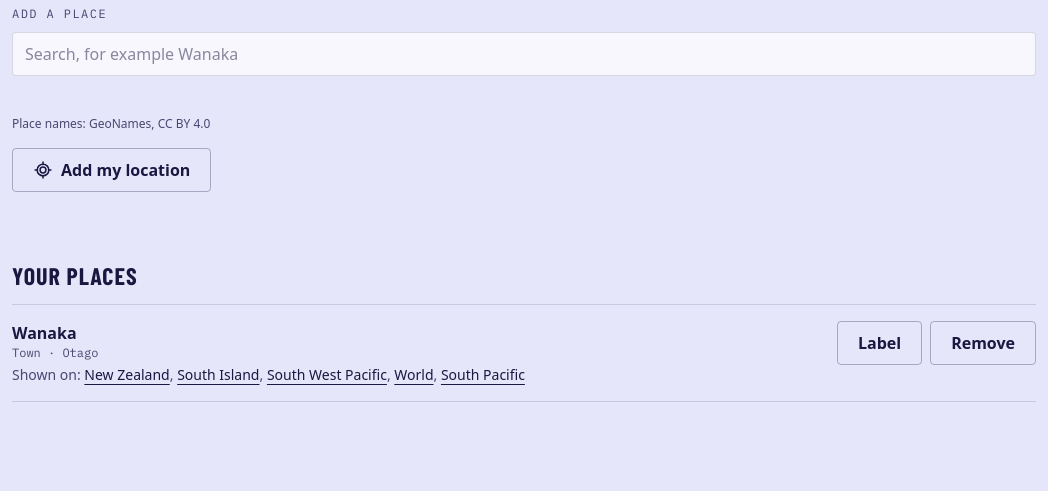
Test: <PinsPage /> › labelling › saves with Enter
The image size is (1048, 491).
Click the button with aria-label "Label Wanaka" at (880, 343), box [837,321,922,365]
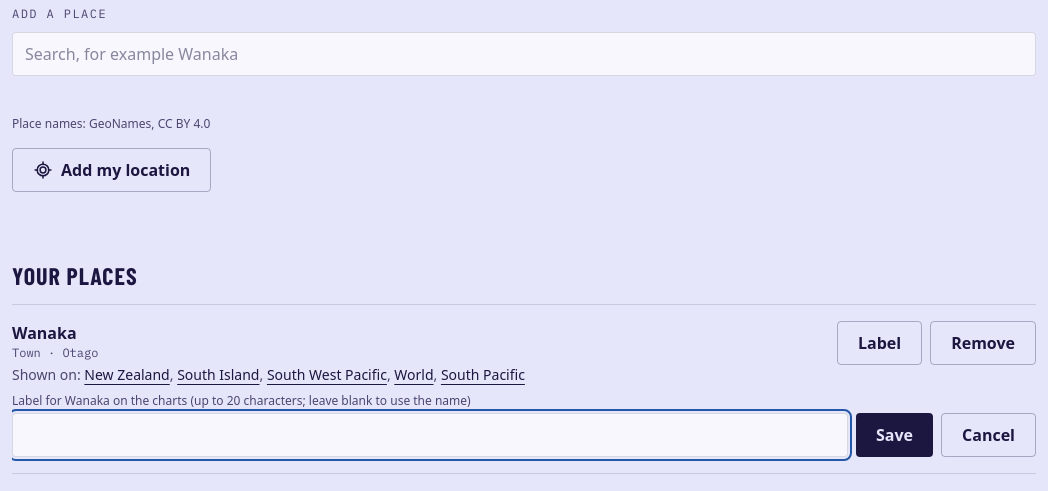
Type "Camp" into the field labelled "Label for Wanaka on the charts" at (430, 435), box [12,413,848,457]
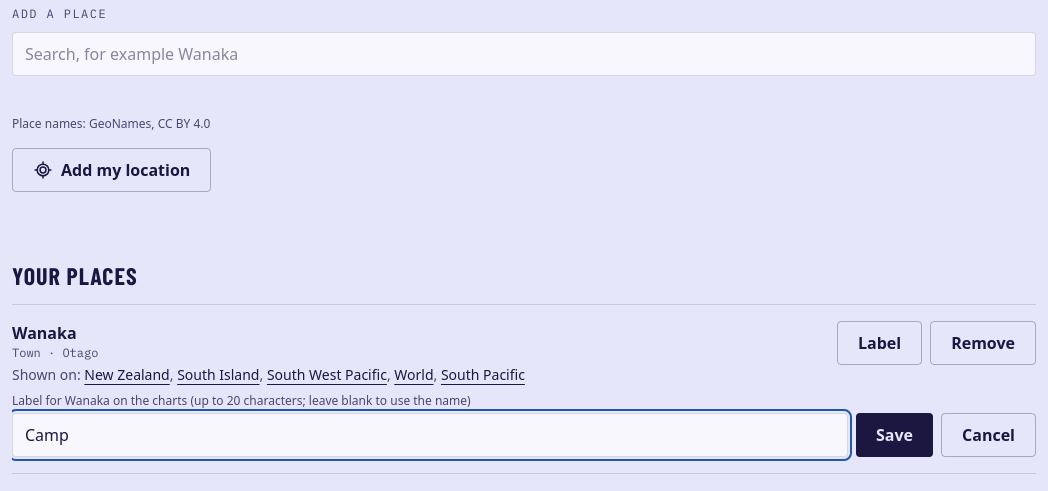
Submit the form labelled "Label for Wanaka on the charts", box [12,393,1036,457]
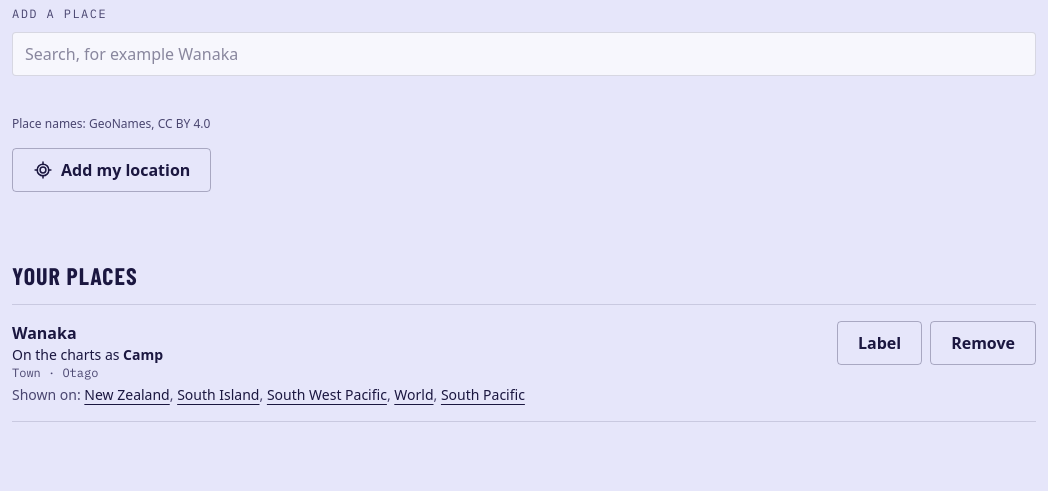
Check: the text "Camp" is shown, box [123,345,163,364]
